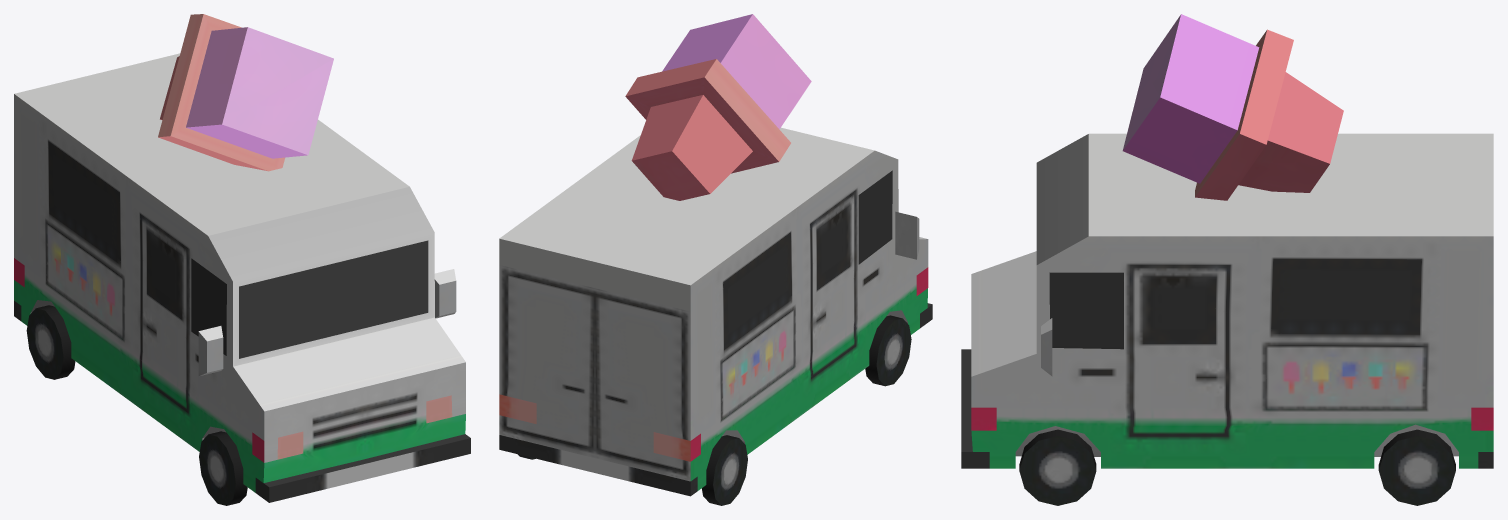
The model's file is icecream_truck.fbx.
3 views of the same model, side by side, from view 1: azimuth 30°, elevation 25°; view 2: azimuth 150°, elevation 25°; view 3: azimuth 270°, elevation 25° (orthographic). The views are drawn at different scales.
Visible parts, largest first — view 1: icecream_truck; view 2: icecream_truck; view 3: icecream_truck.
Part boxes in pixels (bbox=[...]): icecream_truck: bbox=[14, 14, 470, 505]; icecream_truck: bbox=[499, 14, 932, 505]; icecream_truck: bbox=[961, 14, 1493, 505].
Size of the model in its own units: 3.44 by 5.28 by 5.93.
